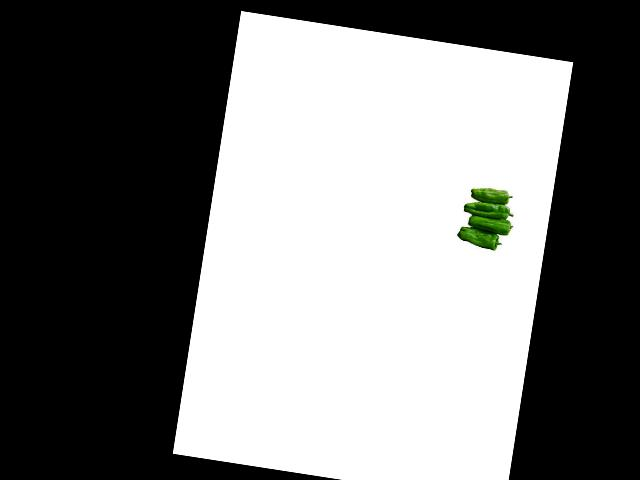bell_pepper: (452, 224, 505, 251)
